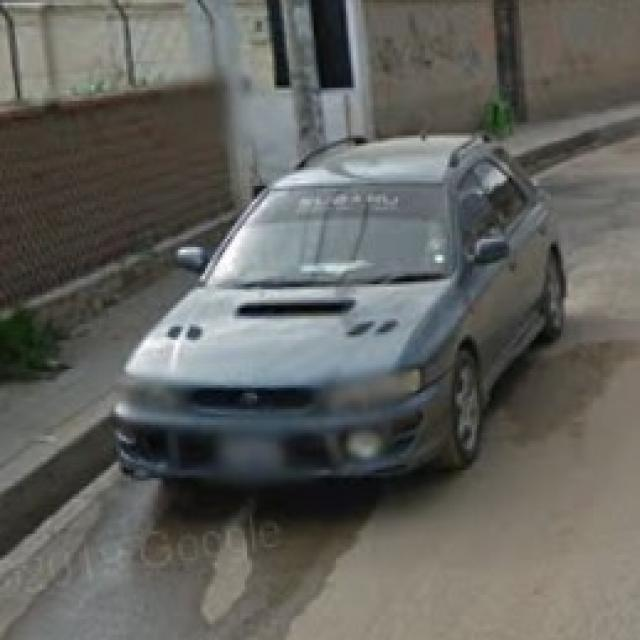cars: (115, 131, 558, 505)
